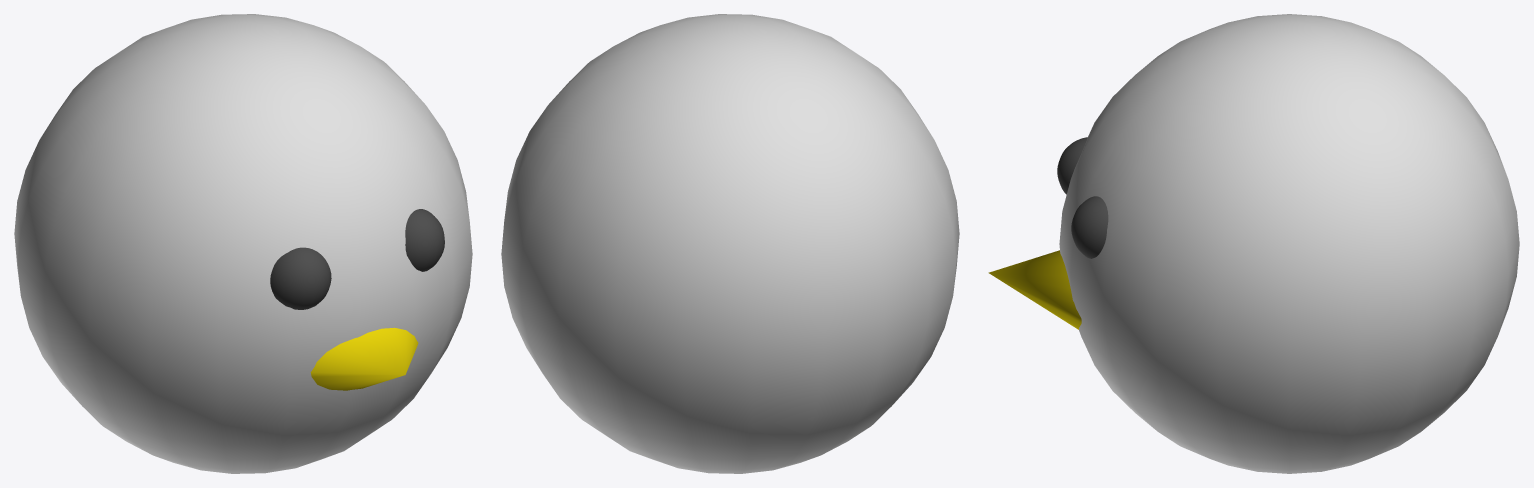
Rendered from duck.fbx.
3 renders of one model, left to right at view 1: azimuth 30°, elevation 25°; view 2: azimuth 150°, elevation 25°; view 3: azimuth 270°, elevation 25°, orthographic.
Parts seen in each view (by area): view 1: pSphere4; view 2: pSphere4; view 3: pSphere4.
Part boxes in pixels (<box>): pSphere4: <box>14,14,472,473</box>; pSphere4: <box>501,14,959,473</box>; pSphere4: <box>988,14,1519,473</box>.
Size of the model in its own units: 2 by 2 by 2.31.
